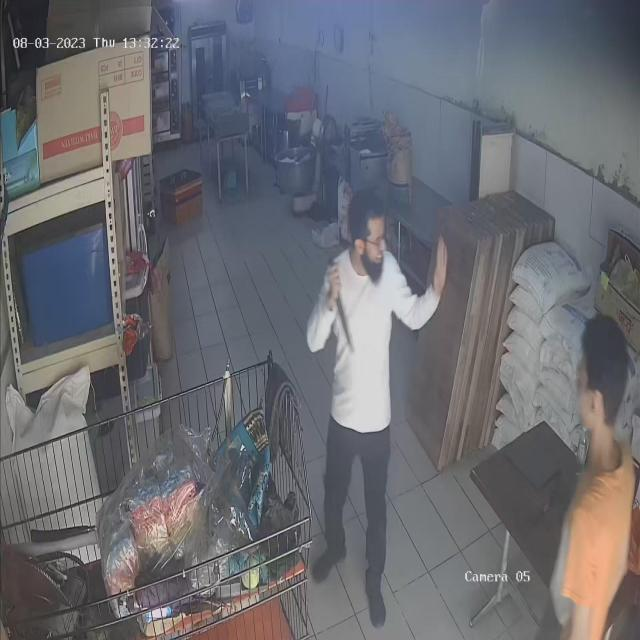Knife: (312, 256, 361, 354)
